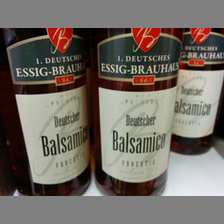vinegar: (1, 28, 92, 198), (89, 28, 181, 194), (171, 26, 224, 153)
